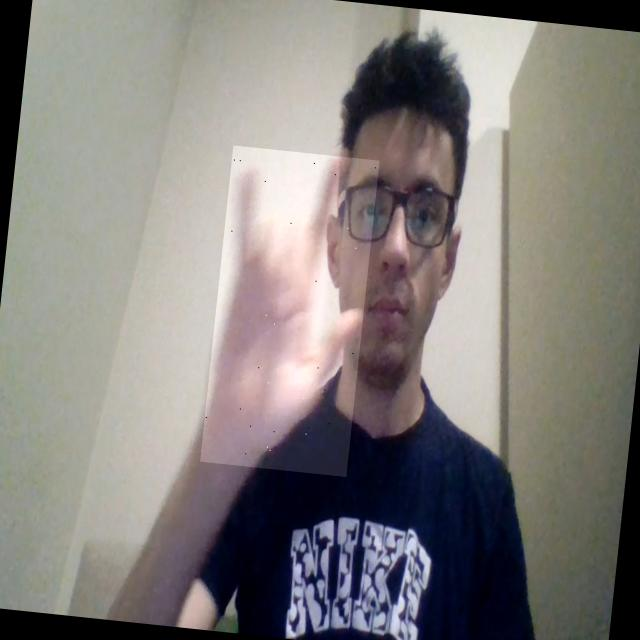iloveyou: (200, 145, 379, 476)
